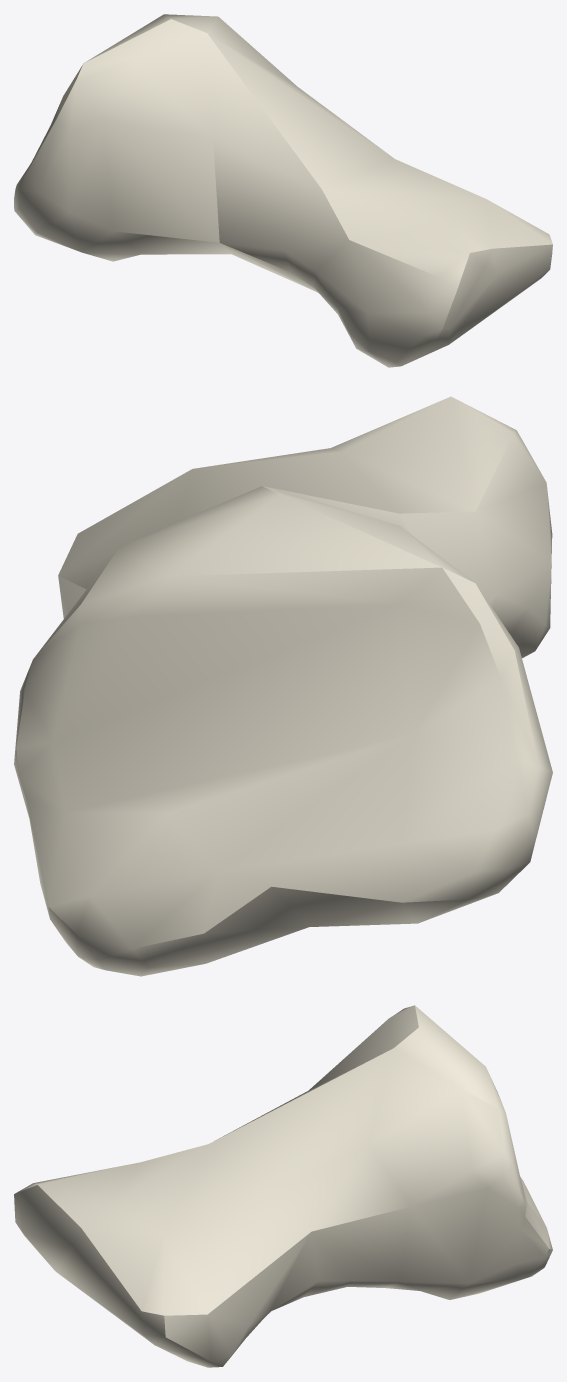
Rendered from fma32643_fj3293.glb.
3 views of the same model, one above another, from view 1: azimuth 30°, elevation 25°; view 2: azimuth 150°, elevation 25°; view 3: azimuth 270°, elevation 25° (orthographic). The views are drawn at different scales.
Parts seen in each view (by area): view 1: FMA32643_FJ3293; view 2: FMA32643_FJ3293; view 3: FMA32643_FJ3293.
Boxes of the visible parts, x1,y1,x2,y2 form: FMA32643_FJ3293: (14, 14, 552, 367); FMA32643_FJ3293: (14, 396, 552, 976); FMA32643_FJ3293: (14, 1005, 552, 1367).
Size of the model in its own units: 0.0141 by 0.00861 by 0.0171.
